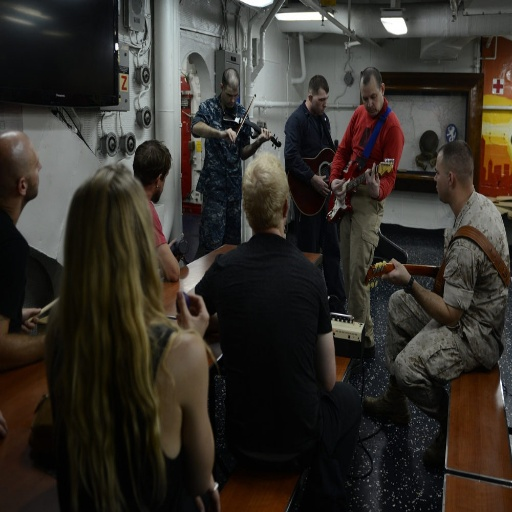hand: (381, 259, 432, 300), (175, 287, 211, 339), (188, 476, 222, 510), (363, 162, 380, 199), (21, 306, 42, 332), (332, 174, 347, 205), (314, 173, 331, 197), (255, 124, 272, 145), (221, 127, 237, 144), (166, 238, 177, 249)
